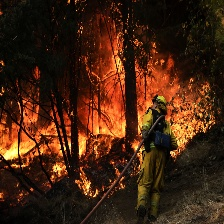fire: (1, 109, 204, 203)
